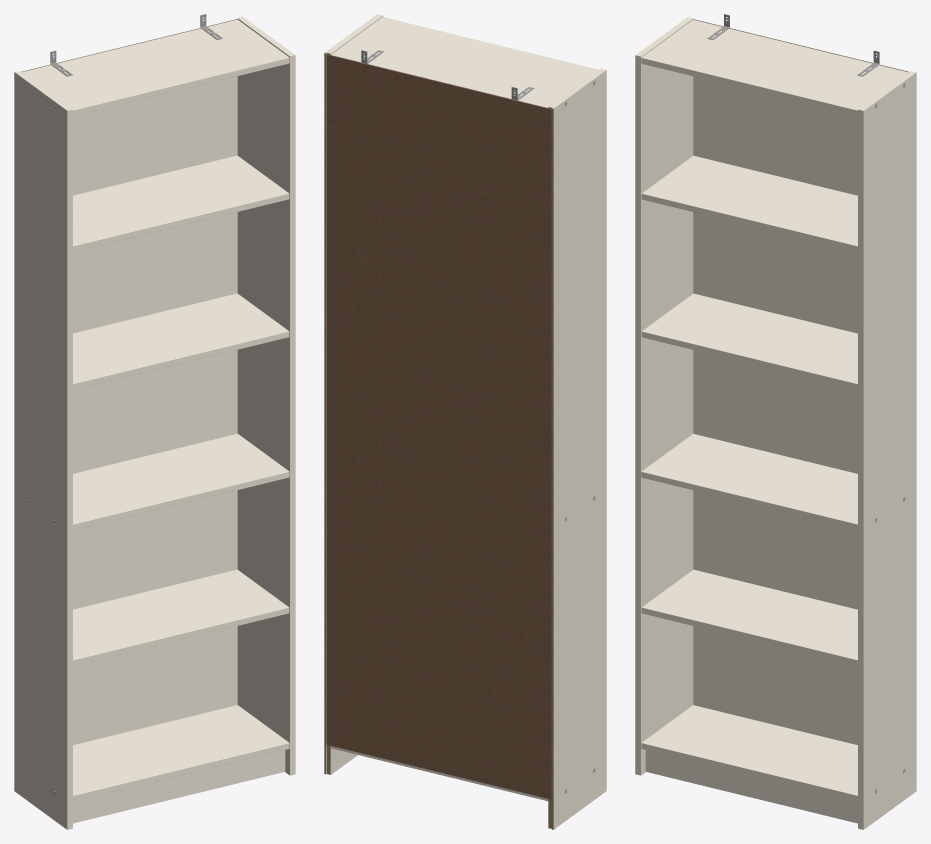
Rendered from 32 - GERSBY Bookcase - white 60x180 cm.glb.
3 views of the same model, side by side, from view 1: azimuth 30°, elevation 25°; view 2: azimuth 150°, elevation 25°; view 3: azimuth 330°, elevation 25° (orthographic).
Parts seen in each view (by area): view 1: Mesh_0; view 2: Mesh_0; view 3: Mesh_0.
Boxes of the visible parts, <box> form: Mesh_0: <box>14,14,295,829</box>; Mesh_0: <box>324,14,606,829</box>; Mesh_0: <box>635,14,916,829</box>.
Size of the model in its own units: 0.599 by 1.83 by 0.24.
1 material, 1 textured.
